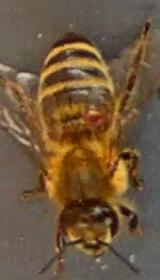varroa_mite: (79, 108, 116, 134)
